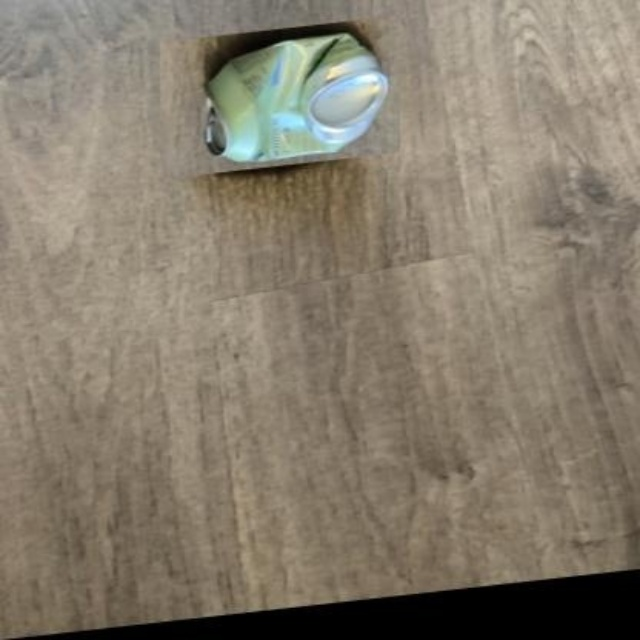trash: (205, 32, 388, 160)
